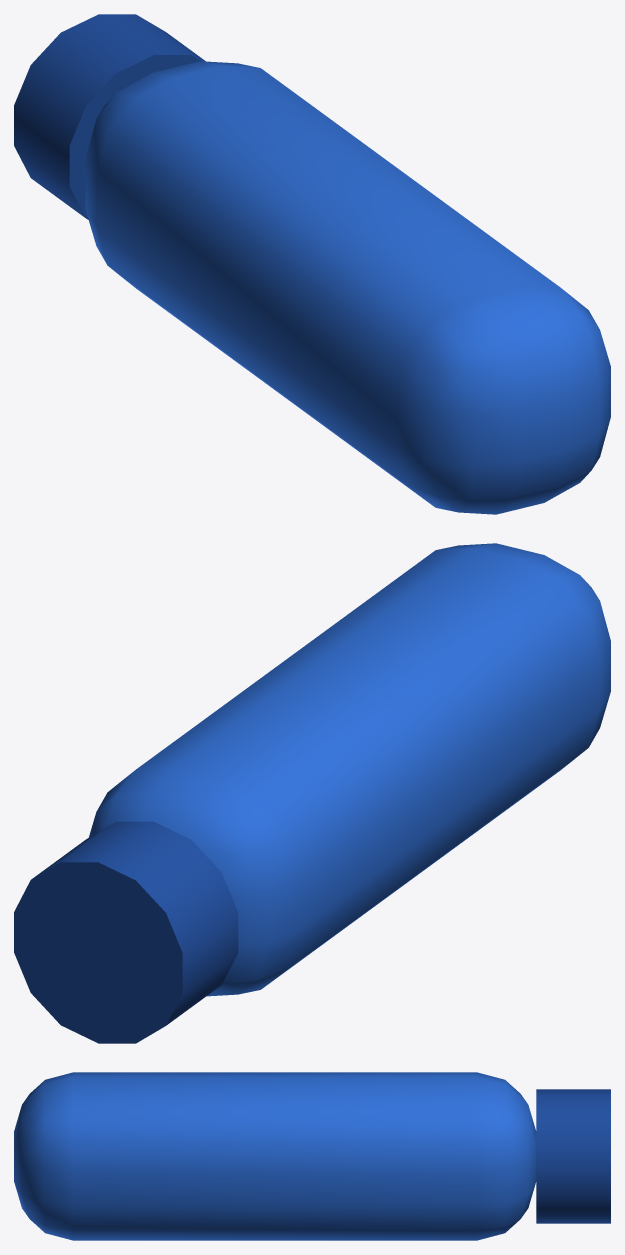
File: mop_grip.fbx
The picture shows the model from 3 angles, top to bottom: view 1: azimuth 30°, elevation 25°; view 2: azimuth 150°, elevation 25°; view 3: azimuth 270°, elevation 25°; orthographic projection. The views are drawn at different scales.
Parts seen in each view (by area): view 1: mop_grip; view 2: mop_grip; view 3: mop_grip.
Part boxes in pixels (left/top/right/bottom): mop_grip: left=14, top=14, right=610, bottom=514; mop_grip: left=14, top=543, right=610, bottom=1043; mop_grip: left=14, top=1072, right=610, bottom=1240.
Bounding box in the file's own units: 0.042 × 0.042 × 0.16.
